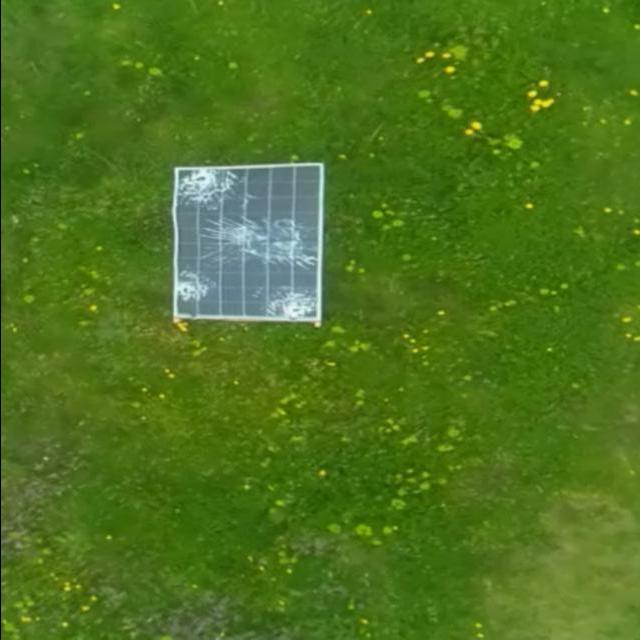cracked: (171, 157, 321, 325)
